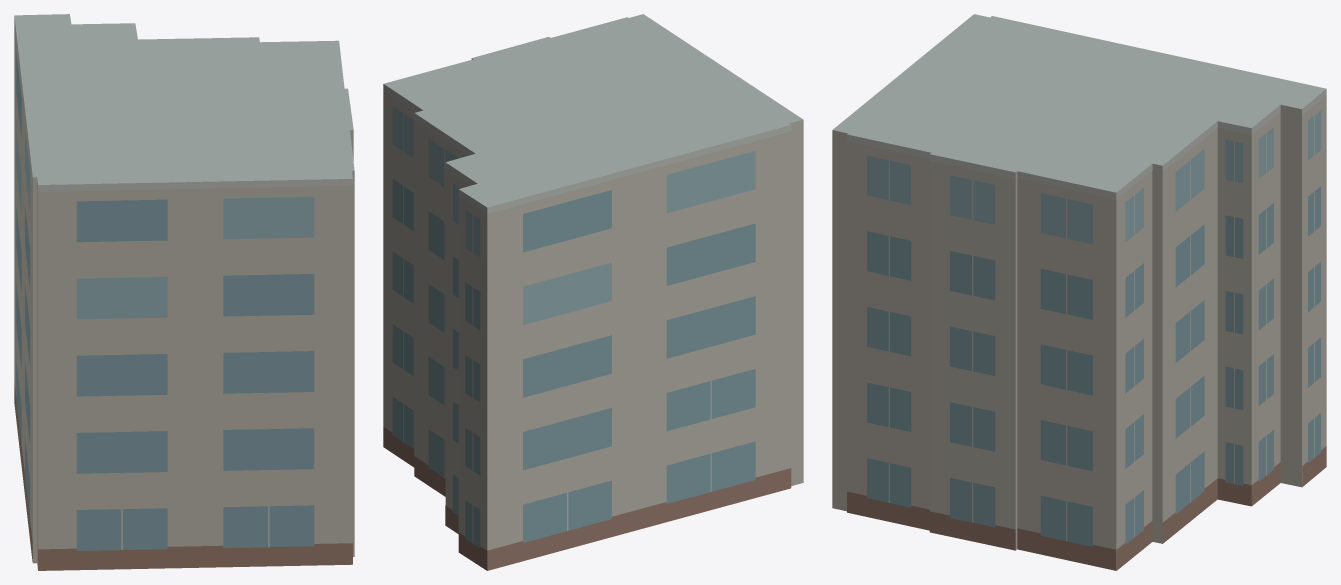
Rendered from survey-upis-32927235.glb.
The picture shows the model from 3 angles, left to right: view 1: azimuth 30°, elevation 25°; view 2: azimuth 150°, elevation 25°; view 3: azimuth 270°, elevation 25°; orthographic projection. The views are drawn at different scales.
Visible parts, largest first — view 1: survey-upis-32927235.tmp; view 2: survey-upis-32927235.tmp; view 3: survey-upis-32927235.tmp.
Boxes of the visible parts, x1,y1,x2,y2 form: survey-upis-32927235.tmp: (14, 14, 354, 570); survey-upis-32927235.tmp: (383, 14, 803, 570); survey-upis-32927235.tmp: (832, 14, 1326, 570).
Bounding box in the file's own units: 14.2 × 14 × 16.6.
